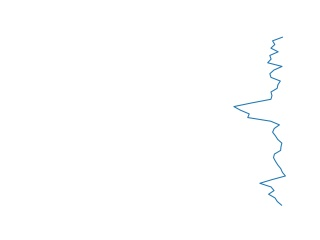interdistributaryEstuary: (228, 36, 295, 207)
